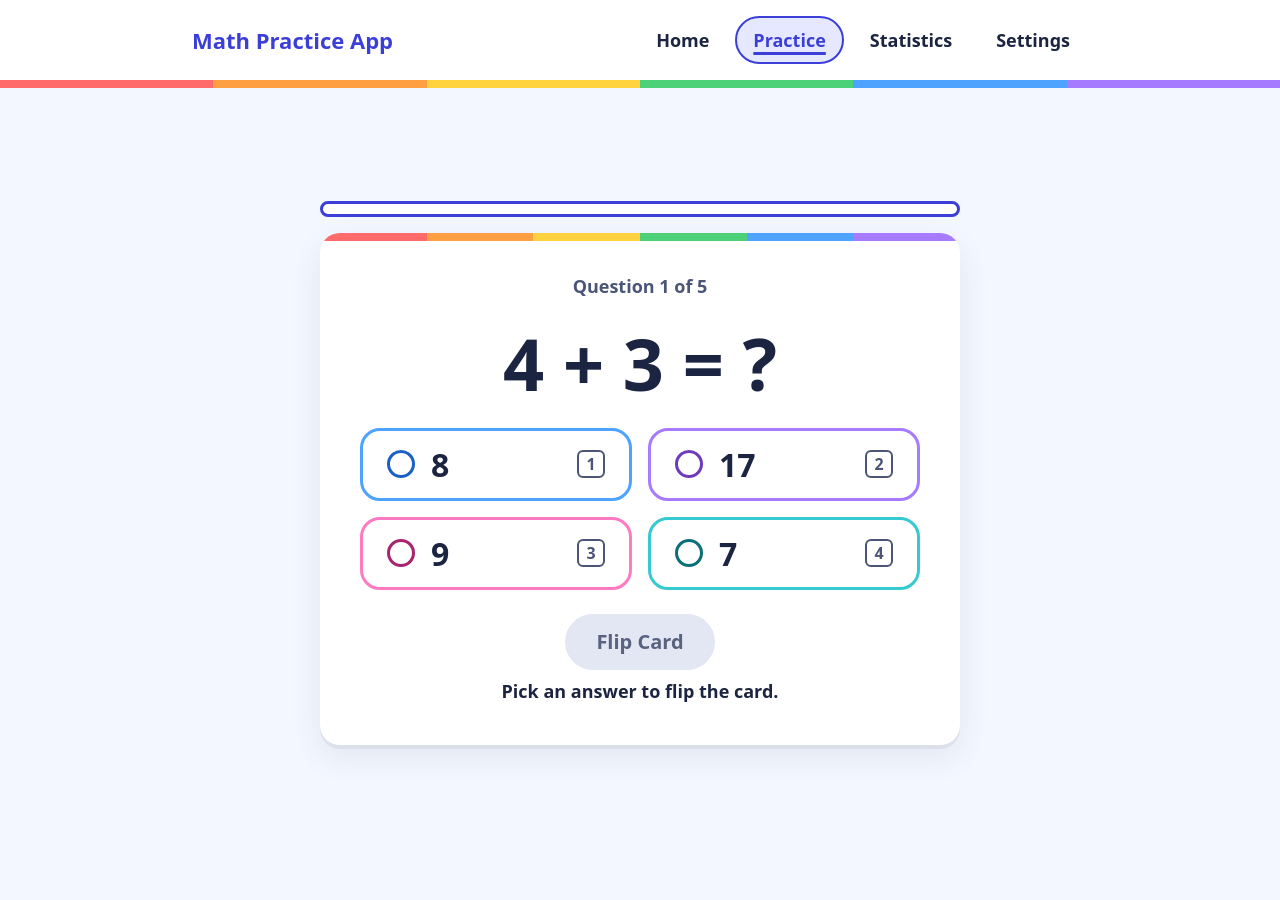
Test: PracticePage › recording results › shows a fresh, unflipped card for the next question
Click the button "8 1": (401, 464) [360, 428, 632, 501]
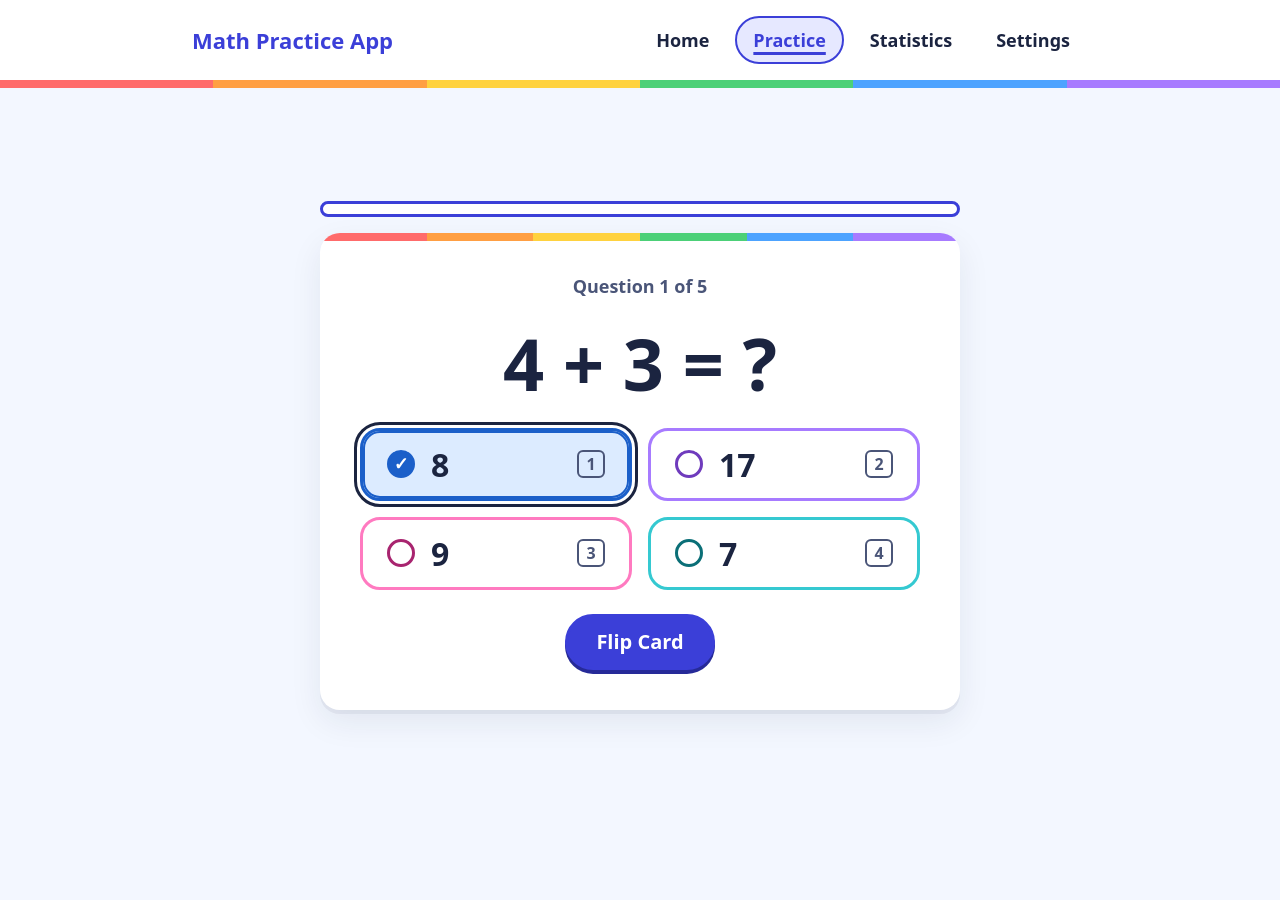
Click the button "Flip Card": (640, 642) [565, 614, 715, 670]
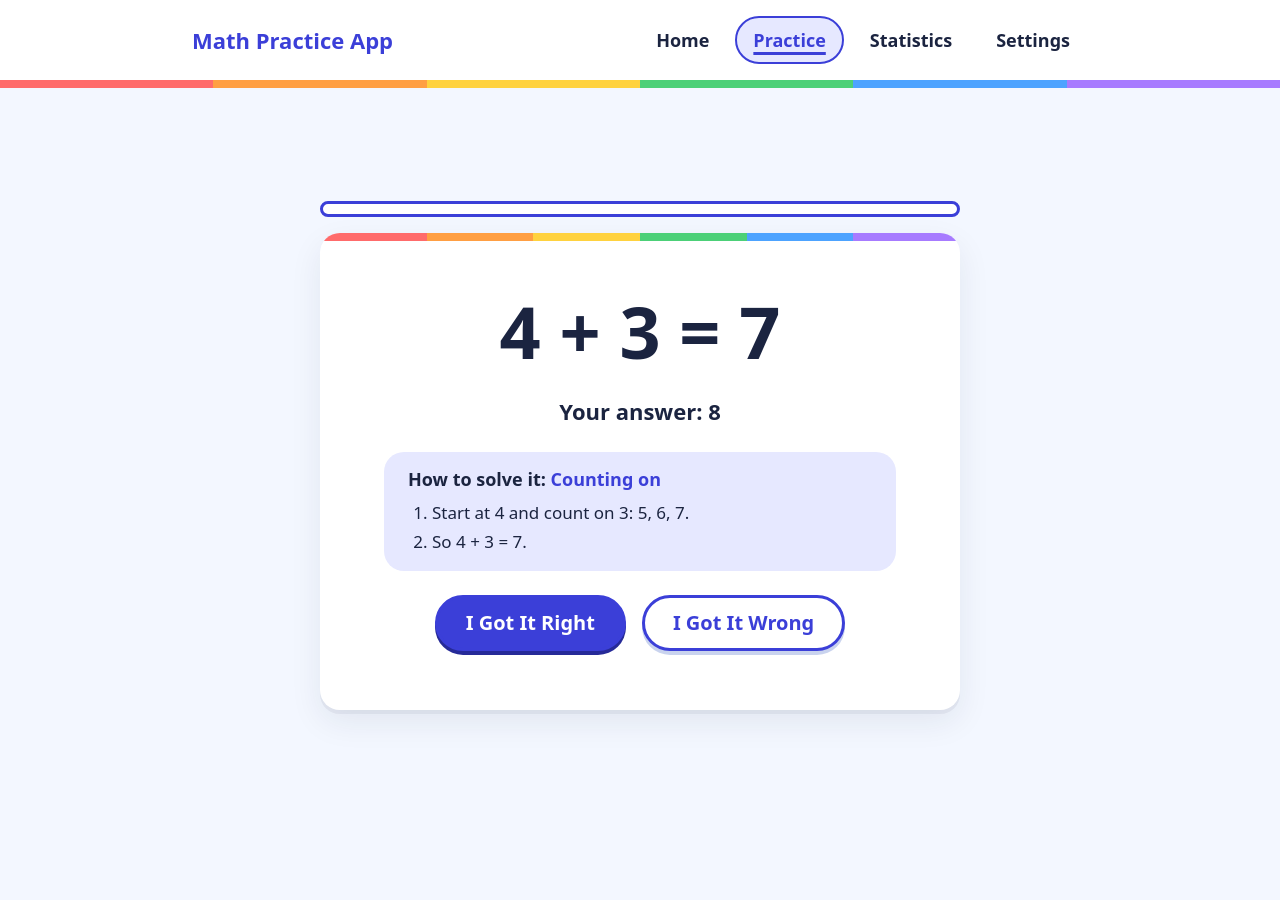
Click the button "I Got It Right": (530, 623) [435, 595, 626, 651]
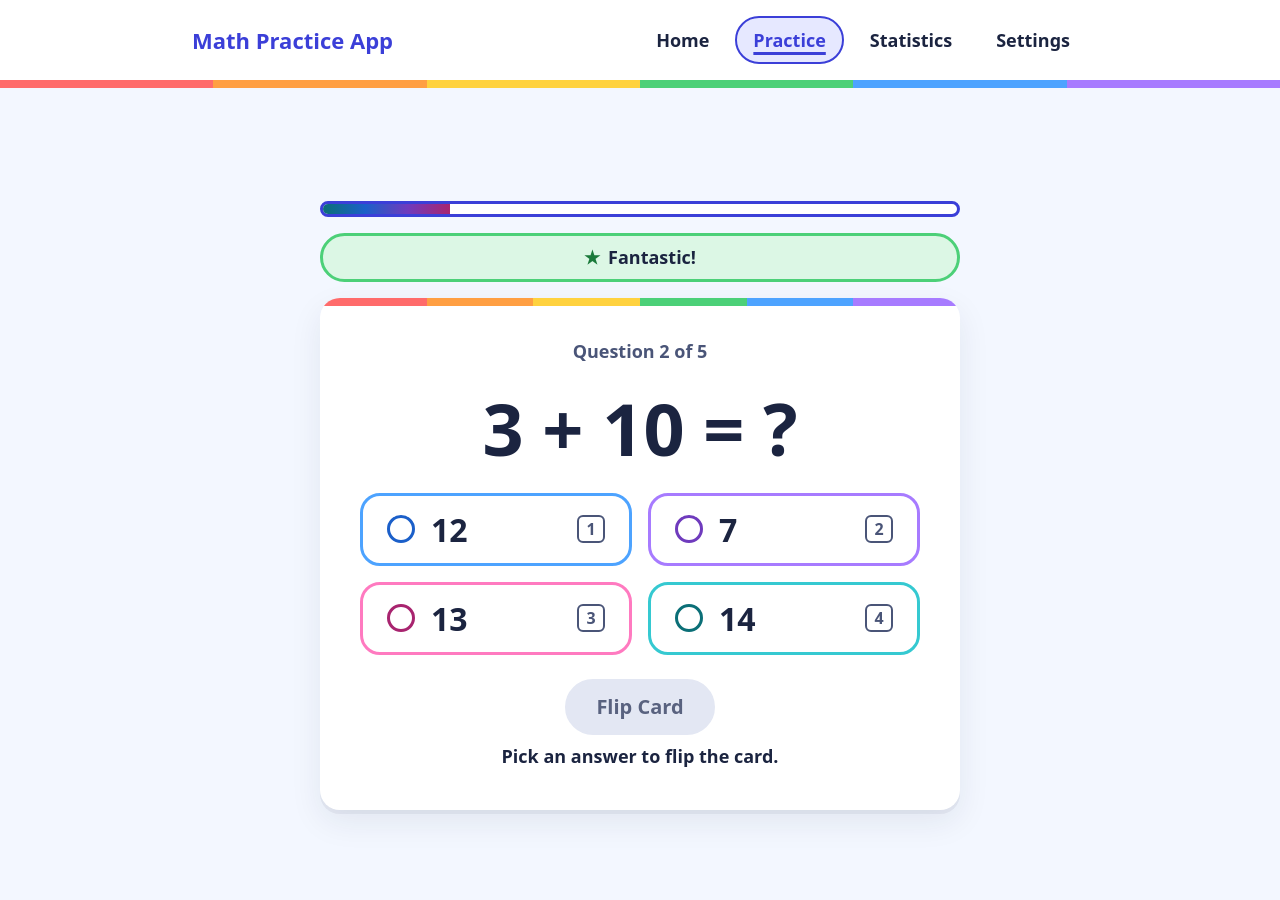
Expected: the button "Flip Card" is disabled, [565, 679, 715, 735]
